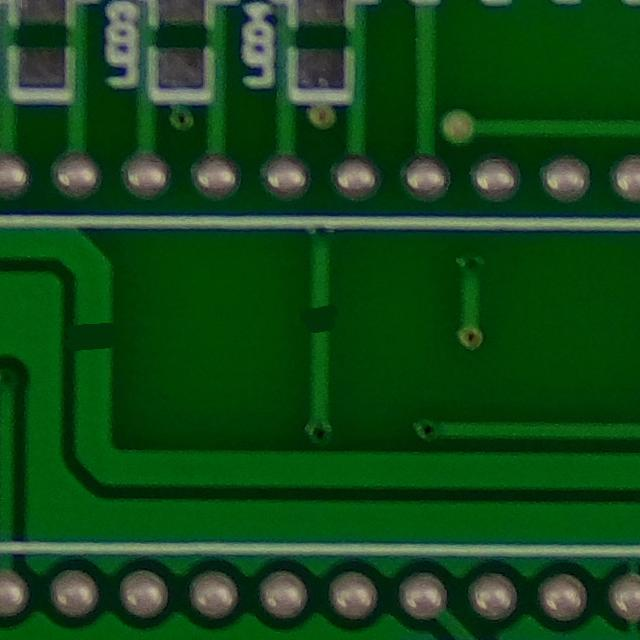open_circuit: (293, 295, 348, 346)
